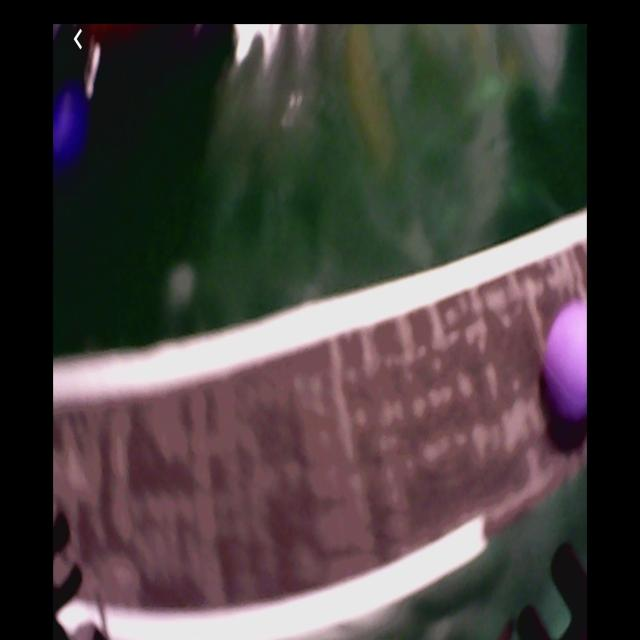ball: (539, 299, 588, 426), (58, 91, 89, 179)
